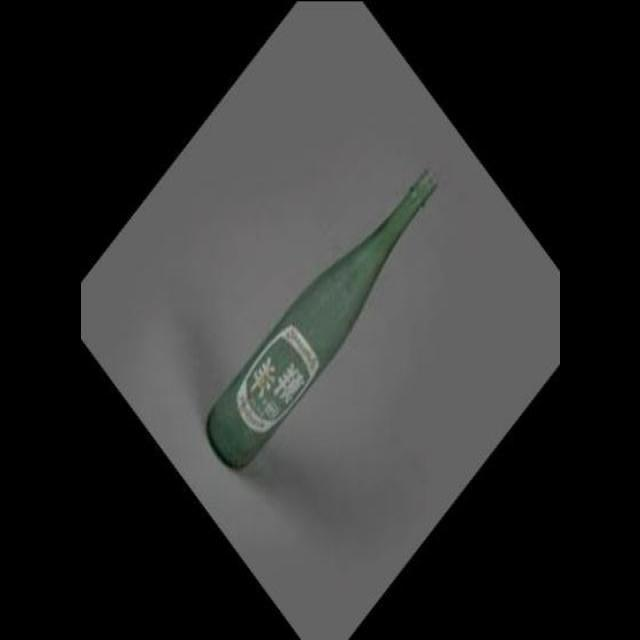Glass: (202, 158, 444, 474)
